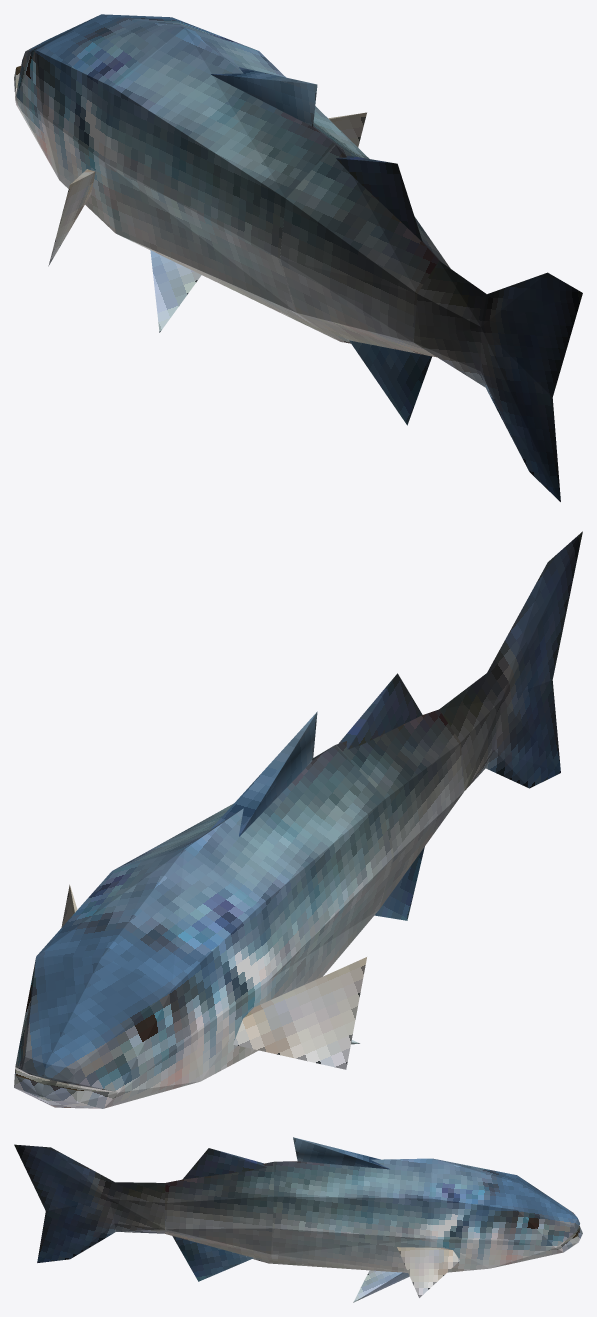
File: Bass_Bass_Sea.glb
3 views of the same model, one above another, from view 1: azimuth 30°, elevation 25°; view 2: azimuth 150°, elevation 25°; view 3: azimuth 270°, elevation 25° (orthographic). The views are drawn at different scales.
Parts seen in each view (by area): view 1: Body, Tail1, Tail2; view 2: Body, Tail2, Tail1; view 3: Body, Tail1, Tail2.
Boxes of the visible parts, bbox=[...] form: Body: bbox=[14, 14, 369, 341]; Tail1: bbox=[280, 144, 450, 425]; Tail2: bbox=[413, 261, 582, 501]; Body: bbox=[14, 711, 393, 1108]; Tail2: bbox=[439, 531, 582, 790]; Tail1: bbox=[335, 673, 464, 920]; Body: bbox=[268, 1137, 582, 1302]; Tail1: bbox=[165, 1148, 274, 1281]; Tail2: bbox=[14, 1144, 165, 1262].
Bounding box in the file's own units: 0.3357 × 0.2964 × 1.06.
1 material, 1 textured.
